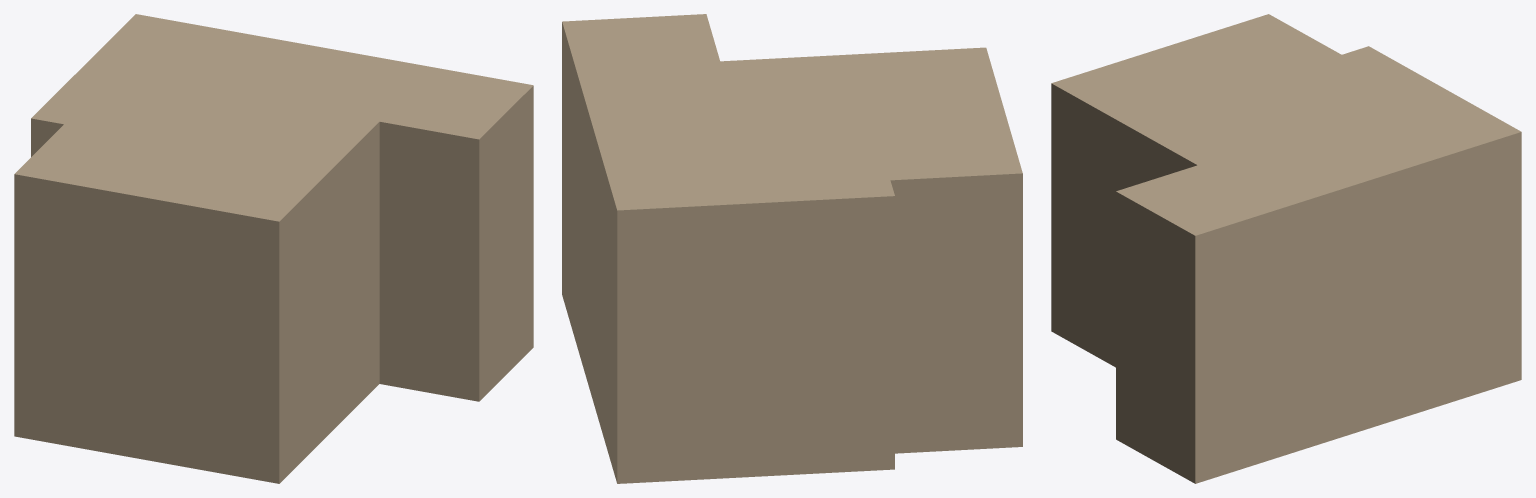
File: bld_106456342.dae
3 renders of one model, left to right at view 1: azimuth 30°, elevation 25°; view 2: azimuth 150°, elevation 25°; view 3: azimuth 270°, elevation 25°, orthographic. The views are drawn at different scales.
Parts seen in each view (by area): view 1: bld_106456342; view 2: bld_106456342; view 3: bld_106456342.
Boxes of the visible parts, x1,y1,x2,y2 form: bld_106456342: (14, 14, 533, 483); bld_106456342: (562, 14, 1022, 483); bld_106456342: (1051, 14, 1521, 483).
Bounding box in the file's own units: 15.34 × 13.75 × 8.
